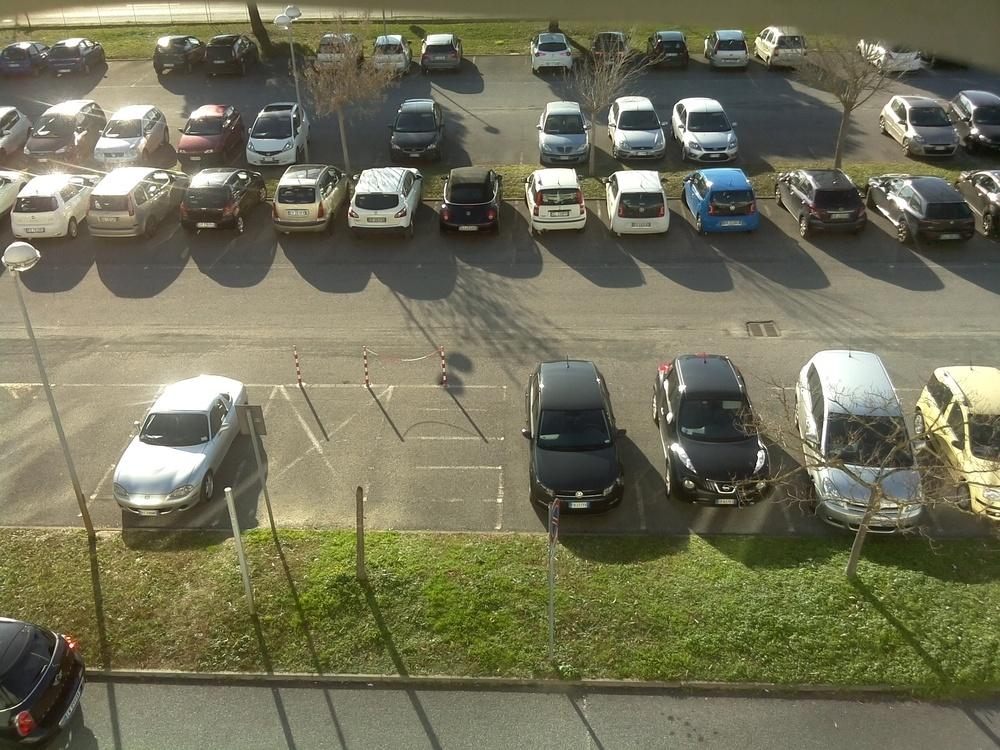empty: (652, 350, 788, 505), (108, 375, 252, 517), (787, 350, 931, 486), (527, 357, 637, 512), (2, 615, 81, 749), (870, 174, 986, 246), (929, 370, 997, 487), (77, 169, 174, 240), (781, 169, 877, 237), (338, 163, 425, 236), (682, 169, 773, 236), (5, 172, 88, 245), (172, 166, 258, 236), (430, 168, 513, 239), (874, 97, 970, 158), (667, 92, 749, 161), (265, 164, 343, 235), (601, 172, 681, 238), (92, 104, 170, 166), (599, 95, 670, 163), (236, 105, 313, 167), (378, 100, 451, 164), (168, 105, 246, 163), (524, 170, 594, 233), (530, 104, 600, 165), (26, 102, 103, 156), (190, 35, 267, 83), (858, 26, 923, 77), (33, 35, 103, 81), (957, 93, 1000, 154), (314, 27, 359, 82), (368, 27, 413, 80), (704, 31, 758, 75), (530, 32, 584, 75), (969, 171, 999, 247), (414, 35, 469, 76), (153, 35, 205, 76), (583, 33, 634, 70), (0, 42, 47, 82), (645, 32, 694, 66), (2, 109, 33, 161)
occupied: (3, 386, 121, 520), (804, 99, 878, 163), (726, 98, 794, 163), (253, 32, 326, 86), (92, 32, 162, 83), (455, 116, 523, 160), (804, 32, 870, 76), (345, 116, 390, 159), (474, 48, 525, 77)
